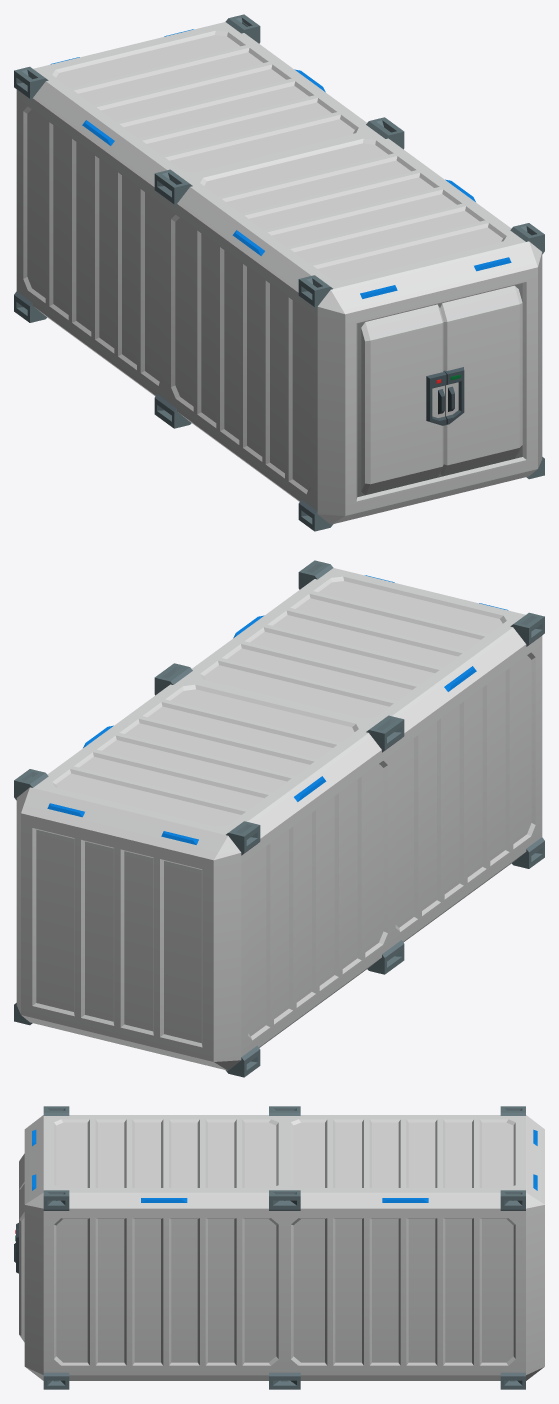
File: Container_type_A_002.glb
The picture shows the model from 3 angles, top to bottom: view 1: azimuth 30°, elevation 25°; view 2: azimuth 150°, elevation 25°; view 3: azimuth 270°, elevation 25°; orthographic projection. The views are drawn at different scales.
Visible parts, largest first — view 1: Container_type_A_002, Container_type_A_door_009, Container_type_A_door_008; view 2: Container_type_A_002; view 3: Container_type_A_002, Container_type_A_door_008.
Part boxes in pixels (x1,y1,x2,y2): Container_type_A_002: (14,14,544,531); Container_type_A_door_009: (361,304,446,495); Container_type_A_door_008: (440,285,522,476); Container_type_A_002: (14,560,544,1077); Container_type_A_002: (24,1106,544,1389); Container_type_A_door_008: (14,1184,24,1342).
Bounding box in the file's own units: 2.46 × 2.46 × 6.12.
Materials: 2 (2 with a texture image).
